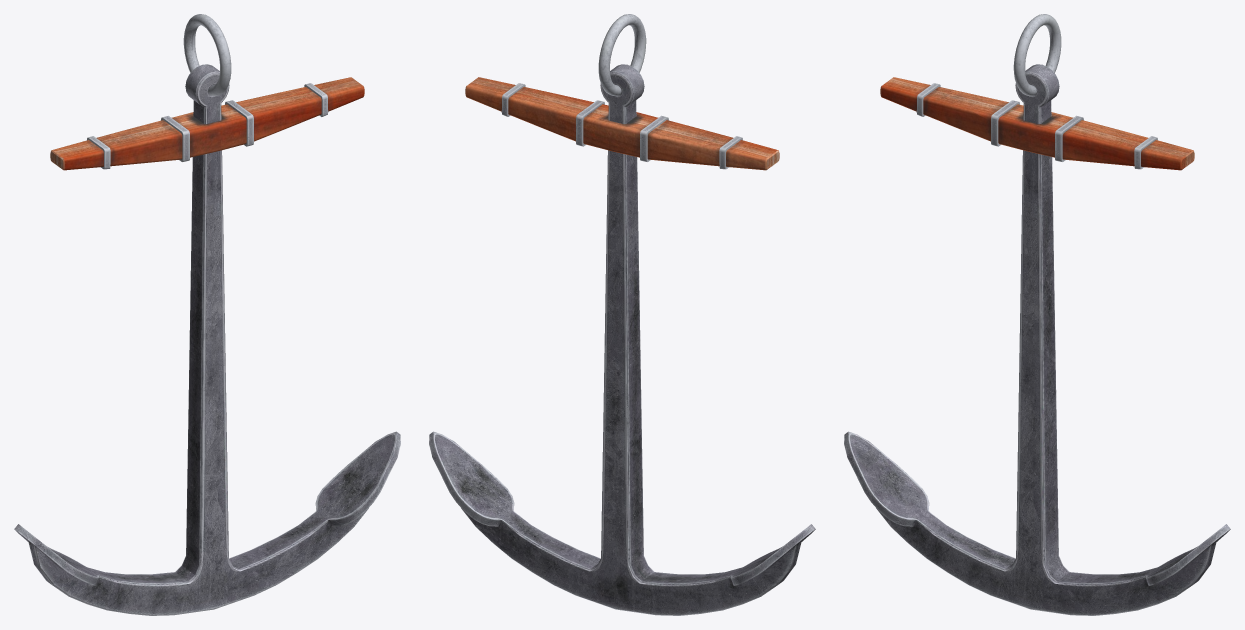
3 renders of one model, left to right at view 1: azimuth 30°, elevation 25°; view 2: azimuth 150°, elevation 25°; view 3: azimuth 330°, elevation 25°, orthographic.
Visible parts, largest first — view 1: GO_Node_03, GO_Node_00, GO_Node_01, GO_Node_04, GO_Node_02; view 2: GO_Node_03, GO_Node_00, GO_Node_01, GO_Node_04, GO_Node_02; view 3: GO_Node_03, GO_Node_00, GO_Node_01, GO_Node_02, GO_Node_04.
Boxes of the visible parts, bbox=[...] form: GO_Node_03: bbox=[14, 429, 251, 615]; GO_Node_00: bbox=[142, 14, 364, 139]; GO_Node_01: bbox=[50, 125, 267, 271]; GO_Node_04: bbox=[238, 431, 400, 598]; GO_Node_02: bbox=[188, 262, 226, 438]; GO_Node_03: bbox=[578, 429, 815, 615]; GO_Node_00: bbox=[465, 14, 687, 139]; GO_Node_01: bbox=[562, 125, 779, 271]; GO_Node_04: bbox=[429, 431, 591, 598]; GO_Node_02: bbox=[603, 262, 641, 438]; GO_Node_03: bbox=[844, 431, 1080, 613]; GO_Node_00: bbox=[972, 14, 1194, 170]; GO_Node_01: bbox=[880, 77, 1080, 275]; GO_Node_02: bbox=[1018, 266, 1056, 444]; GO_Node_04: bbox=[1060, 524, 1230, 615].
Bounding box in the file's own units: 1218 × 1771 × 229.
